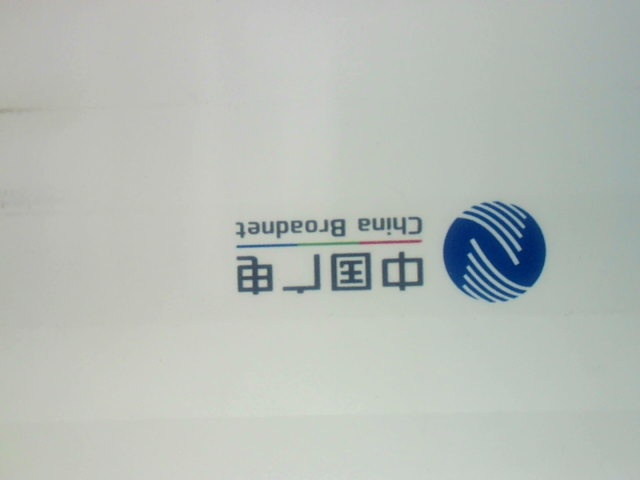AW_ChinaBroadNet: (222, 203, 569, 308)
